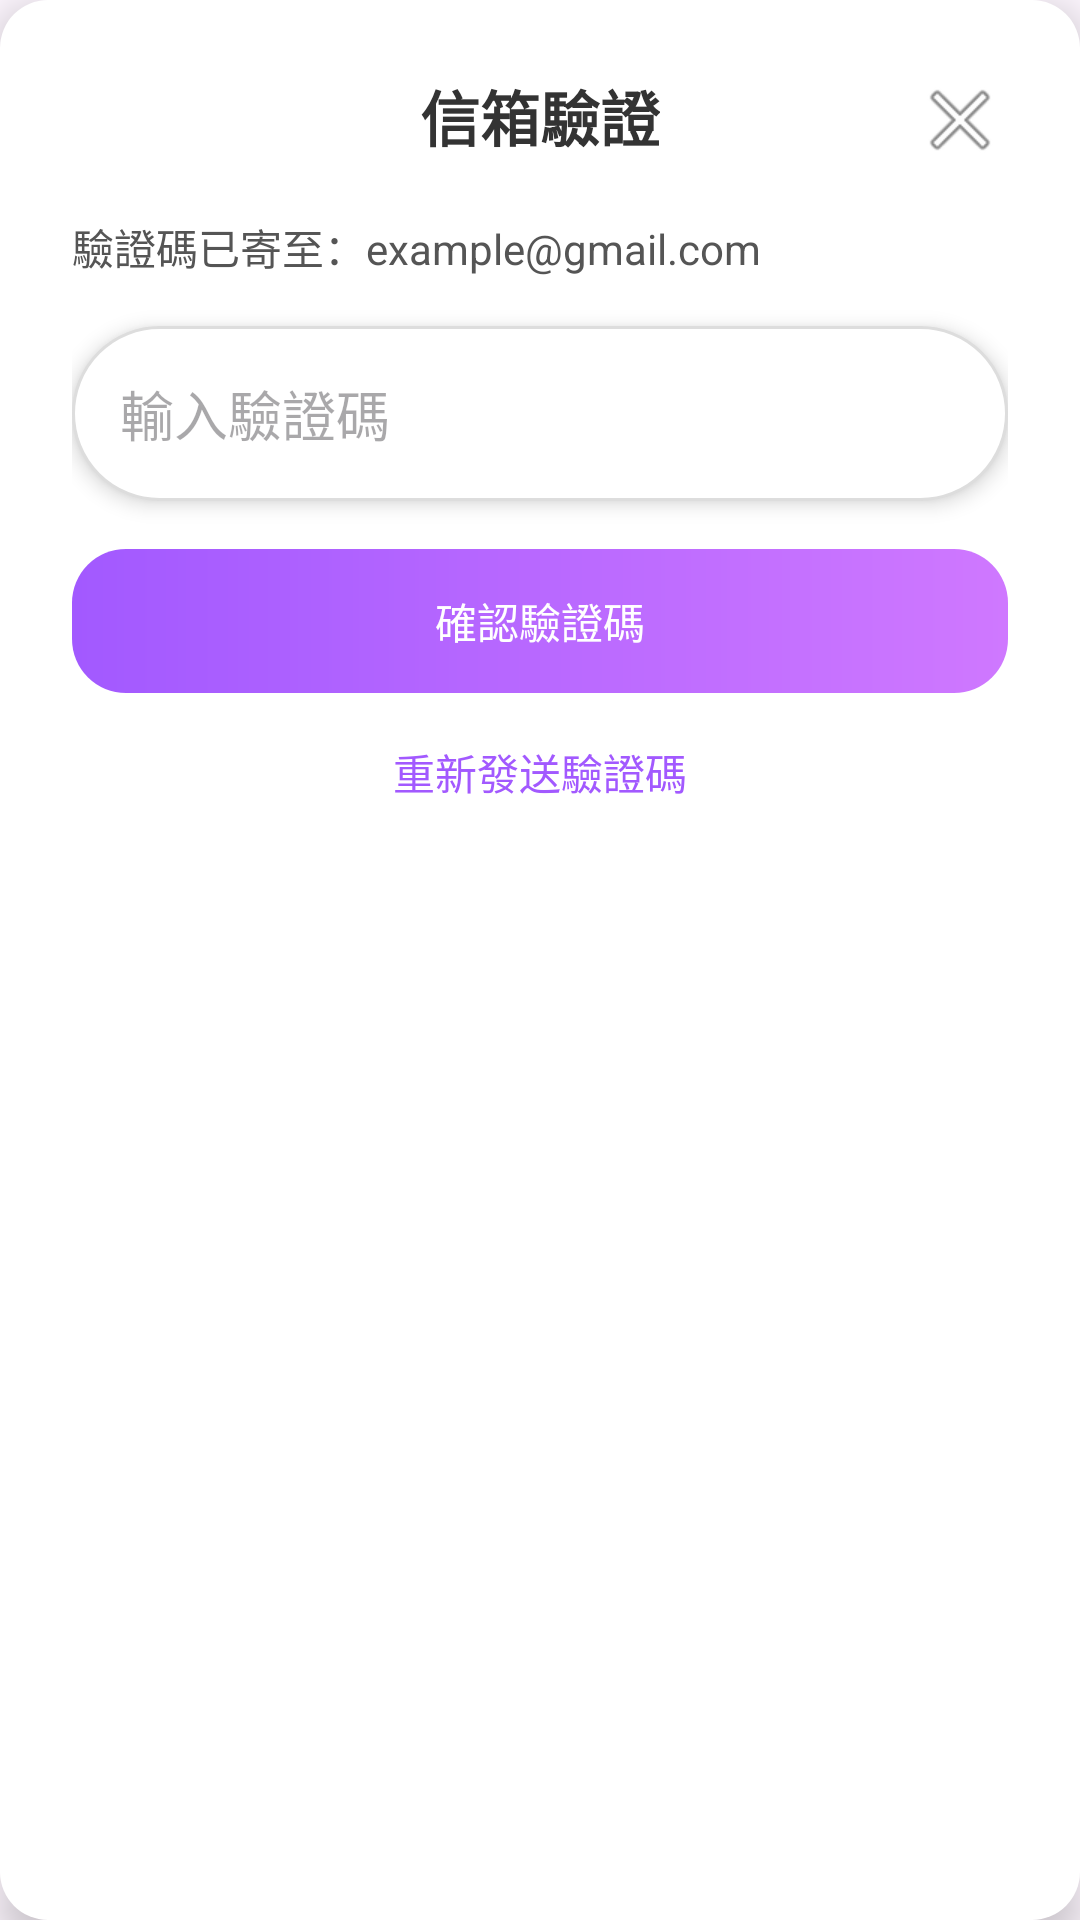

Locate icon controls on the screen. Image size 1080x1920, boxes as [left=x1, top=y1, right=x2, bottom=y2].
關閉: [left=930, top=90, right=990, bottom=150]
